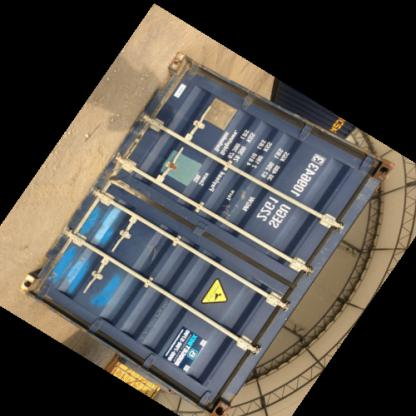Damage: (106, 161, 150, 209), (32, 247, 66, 302), (154, 63, 192, 107), (129, 108, 156, 164)
